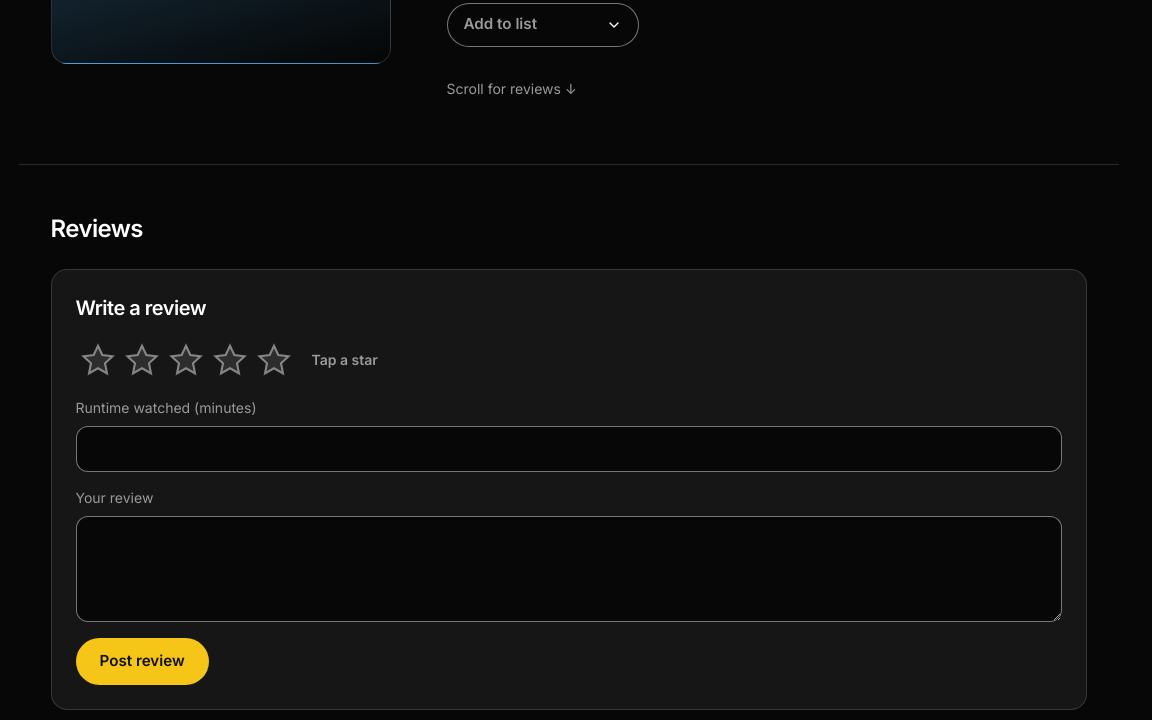
Test: TitleDetail when the reviews change › posting a review raises the review count and average in the overview
(page scrolled)
Click the radio button named "5 stars".
click(274, 360)  # box top-left (256, 342), bottom-right (292, 378)
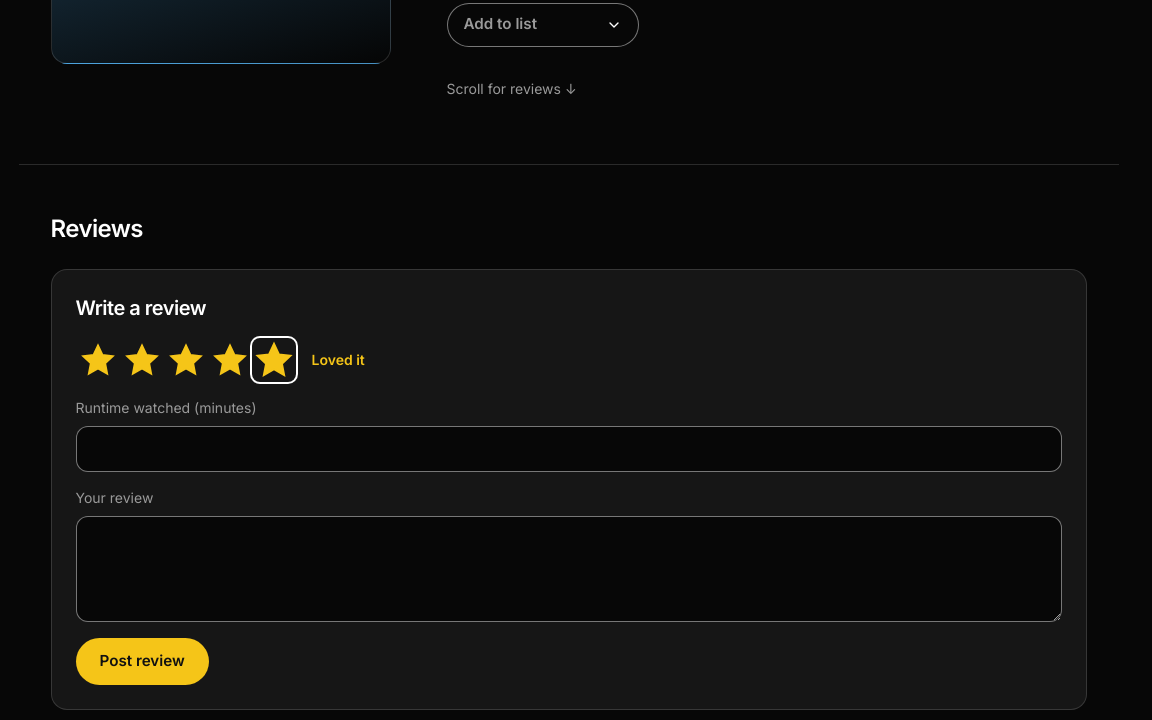
Type "A fresh take" into the text box labelled "Your review".
click(568, 569); type("A fresh take")  # box top-left (76, 516), bottom-right (1062, 622)
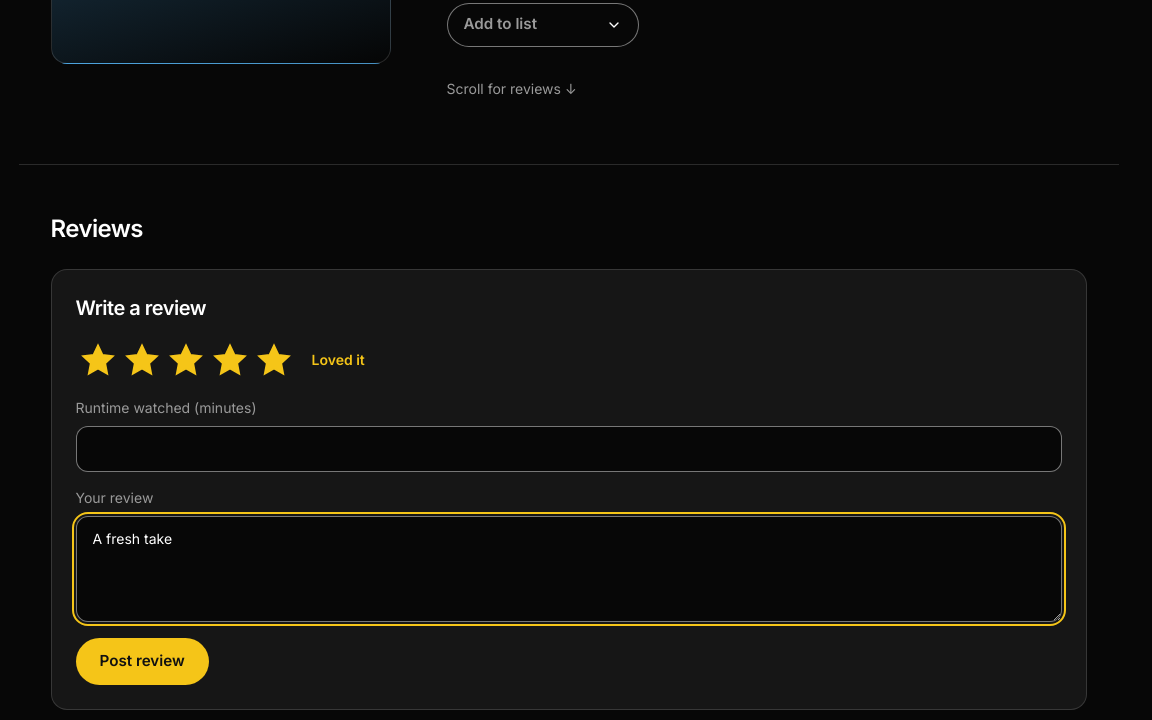
Type "3" into the field labelled "Runtime watched (minutes)".
click(568, 449); type("3")  # box top-left (76, 426), bottom-right (1062, 472)
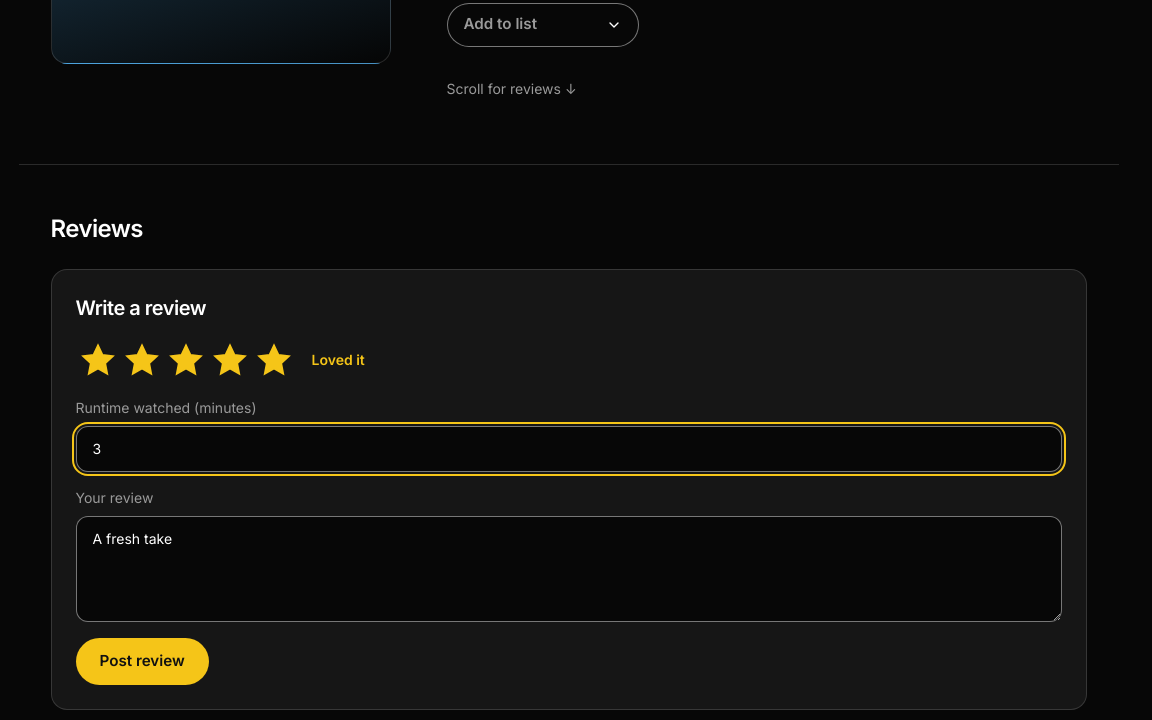
Click the button "Post review".
click(142, 662)  # box top-left (76, 638), bottom-right (209, 685)
(page scrolled)
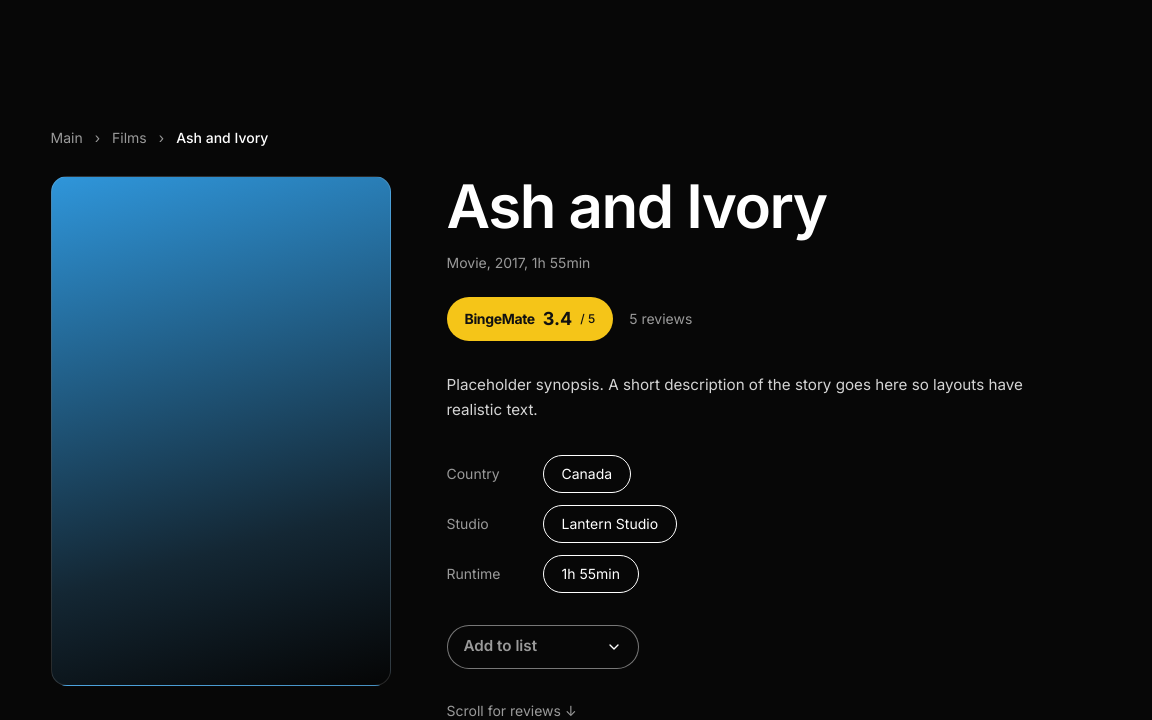
Now the text "5 reviews" is shown, box top-left (629, 309), bottom-right (692, 329)
Now the text "3.4" is shown, box top-left (543, 305), bottom-right (572, 333)
